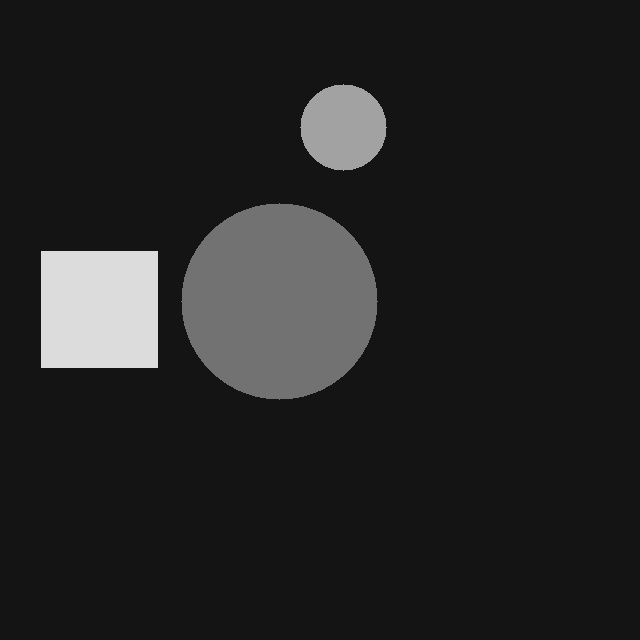circle: (181, 203, 377, 399), (300, 84, 386, 170)
square: (41, 251, 157, 367)
